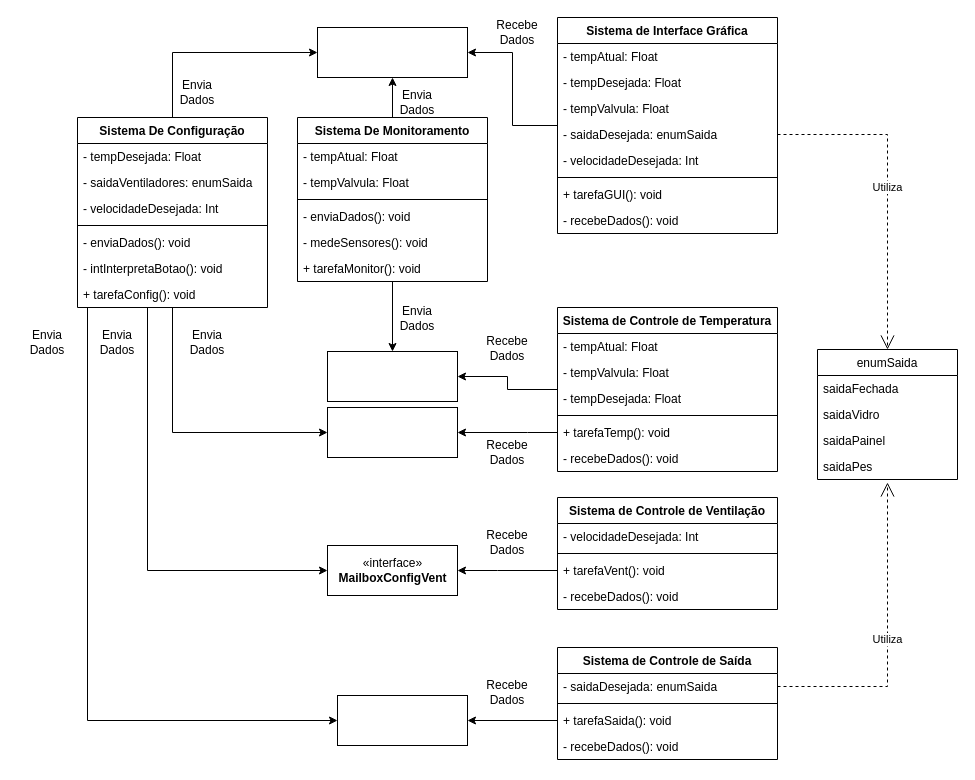
The diagram is 975 pixels wide and 780 high, and some of its shapes have lost their labels. Here are the shapes that lost their labels. From the top down, the centre of each, then its label:
(x=392, y=52): «interface» MailboxInterfaceGrafica
(x=392, y=376): «interface» MailboxMonitorTemp
(x=392, y=432): «interface» MailboxConfigTemp
(x=402, y=720): «interface» MailboxConfigSaida
